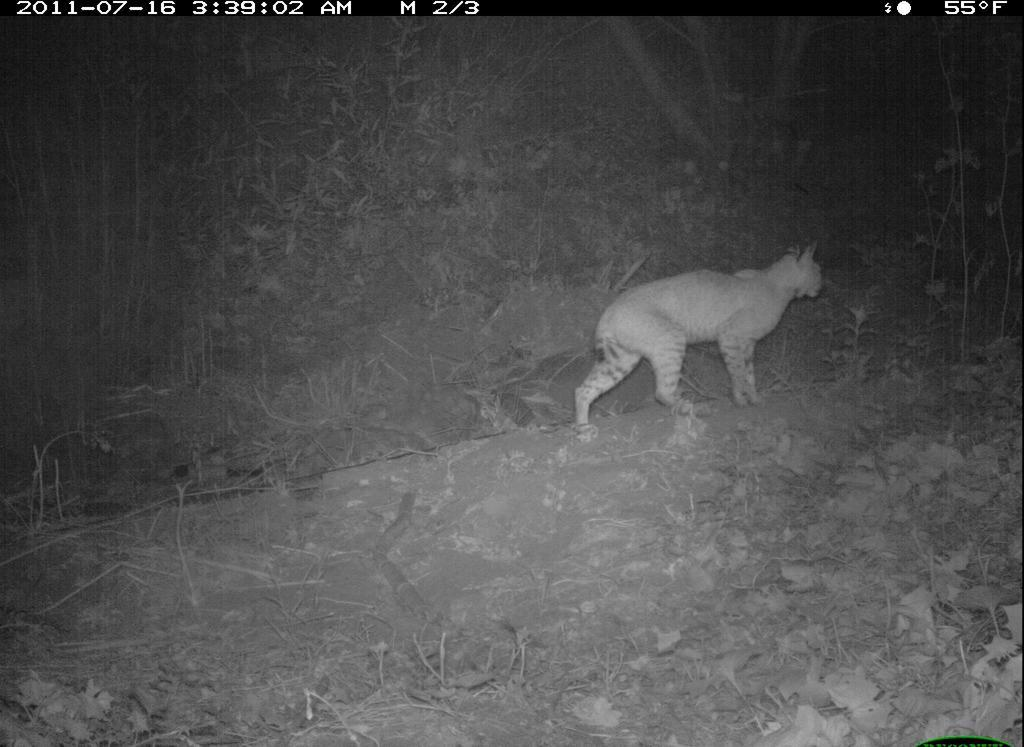bobcat: (528, 232, 884, 472)
